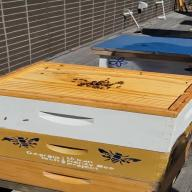Bee: (116, 79, 126, 86)
